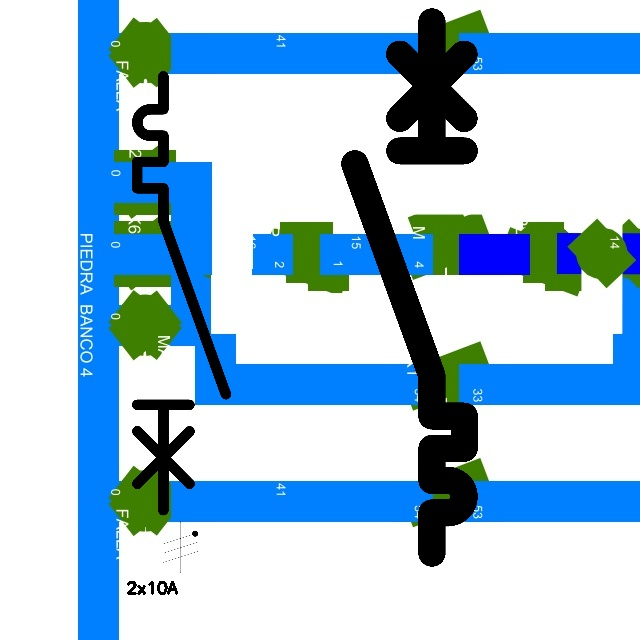interruptor_termomagnetico: (341, 8, 478, 567), (126, 65, 237, 521)
